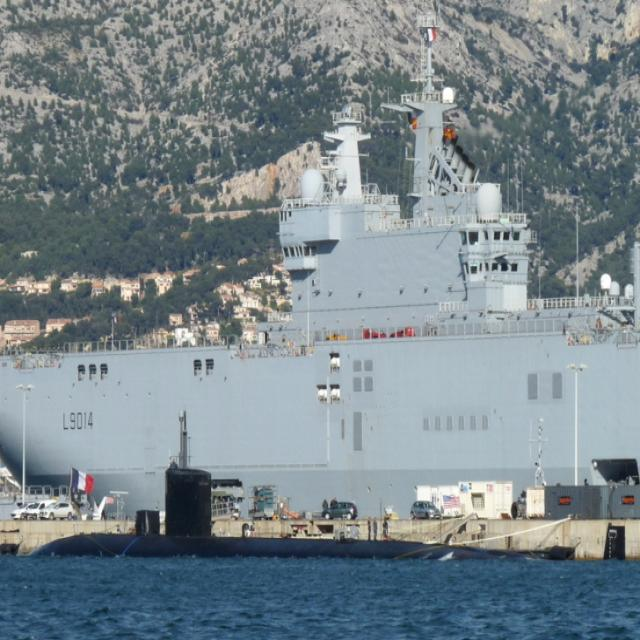submarine: (31, 463, 631, 559)
